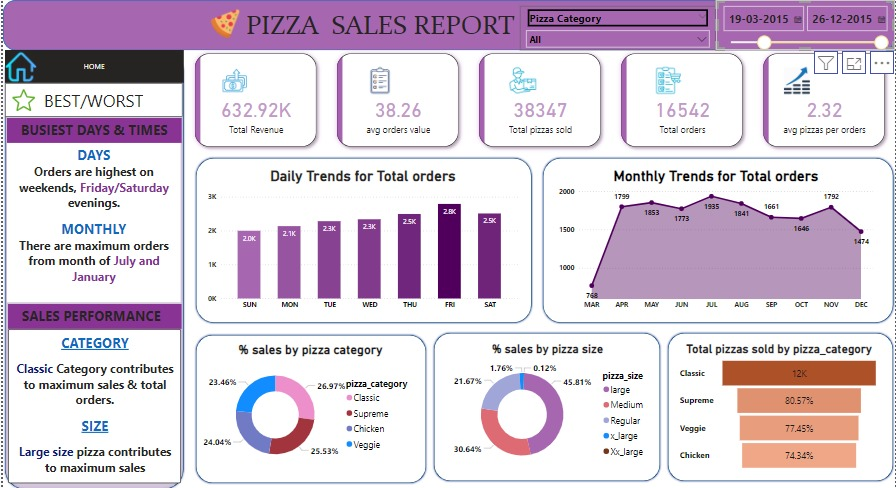

The dashboard page shown, as its layout file describes it:
{"tool":"powerbi","page":{"name":"HOME","canvas":[1614,890],"ordinal":0},"visuals":[{"type":"cardVisual","fields":{"Data":["pizza_sales.Total Revenue","pizza_sales.avg orders value","pizza_sales.Total pizzas sold","pizza_sales.Total orders","pizza_sales.avg pizzas per orders"]},"box":[330.4,60.7,1283.9,241.1],"z":0},{"type":"shape","box":[0,91.1,330.4,798.2],"z":1000},{"type":"shape","box":[0,0,1614.3,91.1],"z":2000},{"type":"textbox","box":[366.1,10.7,633.9,107.1],"z":3000},{"type":"image","box":[360.7,10.7,83.9,64.3],"z":4000},{"type":"shape","box":[344.6,282.1,614.3,305.4],"z":5000},{"type":"columnChart","title":"Daily Trends for Total orders ","fields":{"Category":["pizza_sales.Order day"],"Y":["pizza_sales.Total orders"]},"box":[366.1,301.8,571.4,267.9],"z":6000},{"type":"shape","box":[973.2,282.1,641.1,305.4],"z":7000},{"type":"areaChart","title":"Monthly Trends for Total orders","fields":{"Y":["pizza_sales.Total orders"],"Category":["pizza_sales.Order Month"]},"box":[1000,301.8,578.6,267.9],"z":8000},{"type":"shape","box":[344.6,601.8,423.2,275],"z":9000},{"type":"shape","box":[776.8,598.2,416.1,275],"z":10000},{"type":"shape","box":[1200,598.2,414.3,275],"z":11000},{"type":"donutChart","title":"% sales by pizza category","fields":{"Category":["pizza_sales.pizza_category"],"Y":["pizza_sales.Total Revenue"]},"box":[360.7,617.9,392.9,237.5],"z":12000},{"type":"donutChart","title":"% sales by pizza size","fields":{"Y":["pizza_sales.Total Revenue"],"Category":["pizza_sales.pizza_size"]},"box":[789.3,617.9,392.9,237.5],"z":13000},{"type":"funnel","fields":{"Category":["pizza_sales.pizza_category"],"Y":["pizza_sales.Total pizzas sold"]},"box":[1219.6,617.9,369.6,237.5],"z":14000},{"type":"textbox","box":[7.1,214.3,316.1,44.6],"z":15000},{"type":"textbox","box":[7.1,258.9,314.3,287.5],"z":16000},{"type":"textbox","box":[8.9,550,314.3,44.6],"z":17000},{"type":"textbox","box":[8.9,594.6,312.5,278.6],"z":18000},{"type":"slicer","fields":{"Values":["pizza_sales.pizza_category"]},"box":[935.7,10.7,353.6,80.4],"z":19000},{"type":"slicer","fields":{"Values":["pizza_sales.order_date"]},"box":[1289.3,0,325,91.1],"z":20000},{"type":"pageNavigator","box":[3.6,90.4,323.8,59.7],"z":22000},{"type":"pageNavigator","box":[3.6,150.1,322,61.5],"z":24000},{"type":"image","box":[0,79.6,65.1,83.2],"z":25500},{"type":"image","box":[0,155.6,74.2,50.7],"z":26000}]}

Visuals, with their boxes in screenshot pixels (x1, y1, x2, y2), scaled from the page's 1614x890 canvas onto the 896x488 screenshot:
cardVisual - pizza_sales.Total Revenue x pizza_sales.avg orders value: 183:33:895:165
shape: 0:50:183:487
shape: 0:0:895:50
textbox: 203:6:555:65
image: 200:6:247:41
shape: 191:155:532:322
"Daily Trends for Total orders " columnChart: 203:165:520:312
shape: 540:155:895:322
"Monthly Trends for Total orders" areaChart: 555:165:876:312
shape: 191:330:426:481
shape: 431:328:662:479
shape: 666:328:895:479
"% sales by pizza category" donutChart: 200:339:418:469
"% sales by pizza size" donutChart: 438:339:656:469
funnel - pizza_sales.pizza_category x pizza_sales.Total pizzas sold: 677:339:882:469
textbox: 4:118:179:142
textbox: 4:142:178:300
textbox: 5:302:179:326
textbox: 5:326:178:479
slicer - pizza_sales.pizza_category: 519:6:716:50
slicer - pizza_sales.order_date: 716:0:895:50
pageNavigator: 2:50:182:82
pageNavigator: 2:82:181:116
image: 0:44:36:89
image: 0:85:41:113
